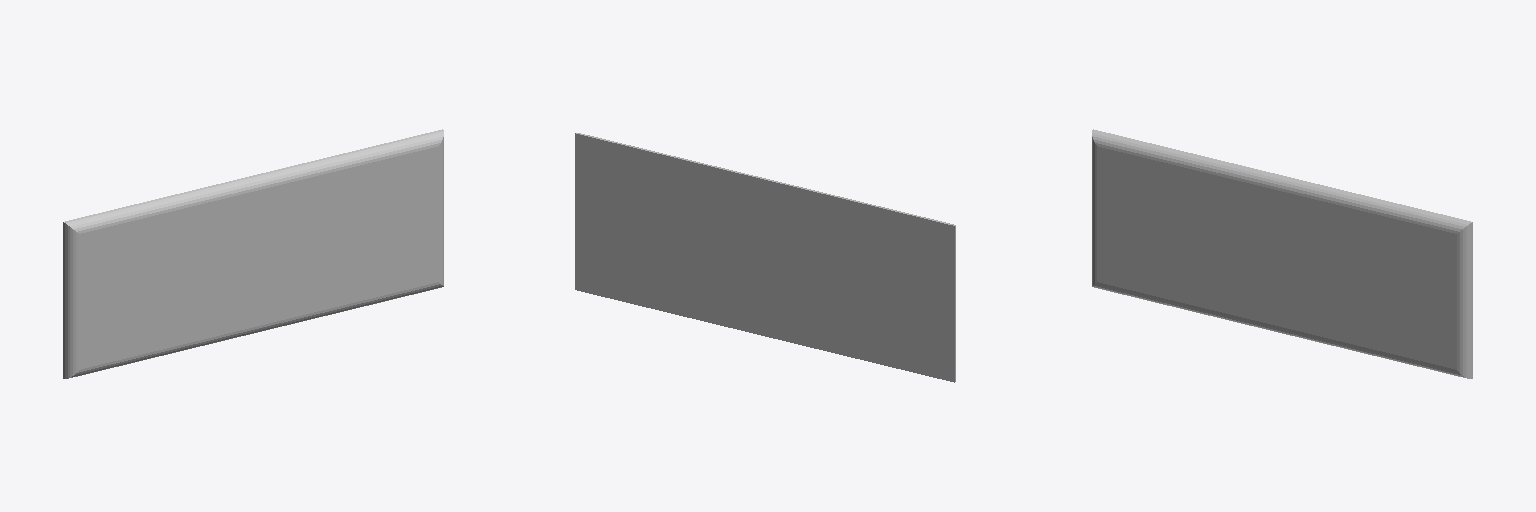
Rendered from original-39.obj.
The picture shows the model from 3 angles: view 1: azimuth 30°, elevation 25°; view 2: azimuth 150°, elevation 25°; view 3: azimuth 330°, elevation 25°; orthographic projection.
Parts seen in each view (by area): view 1: Group35/mesh58/mesh58-geometry#mesh58-geometry; view 2: Group35/mesh58/mesh58-geometry#mesh58-geometry; view 3: Group35/mesh58/mesh58-geometry#mesh58-geometry.
Part boxes in pixels (bbox=[...]): Group35/mesh58/mesh58-geometry#mesh58-geometry: bbox=[63, 129, 443, 378]; Group35/mesh58/mesh58-geometry#mesh58-geometry: bbox=[575, 133, 955, 382]; Group35/mesh58/mesh58-geometry#mesh58-geometry: bbox=[1092, 129, 1472, 378].
Bounding box in the file's own units: 0.4352 × 0.1718 × 0.0115.